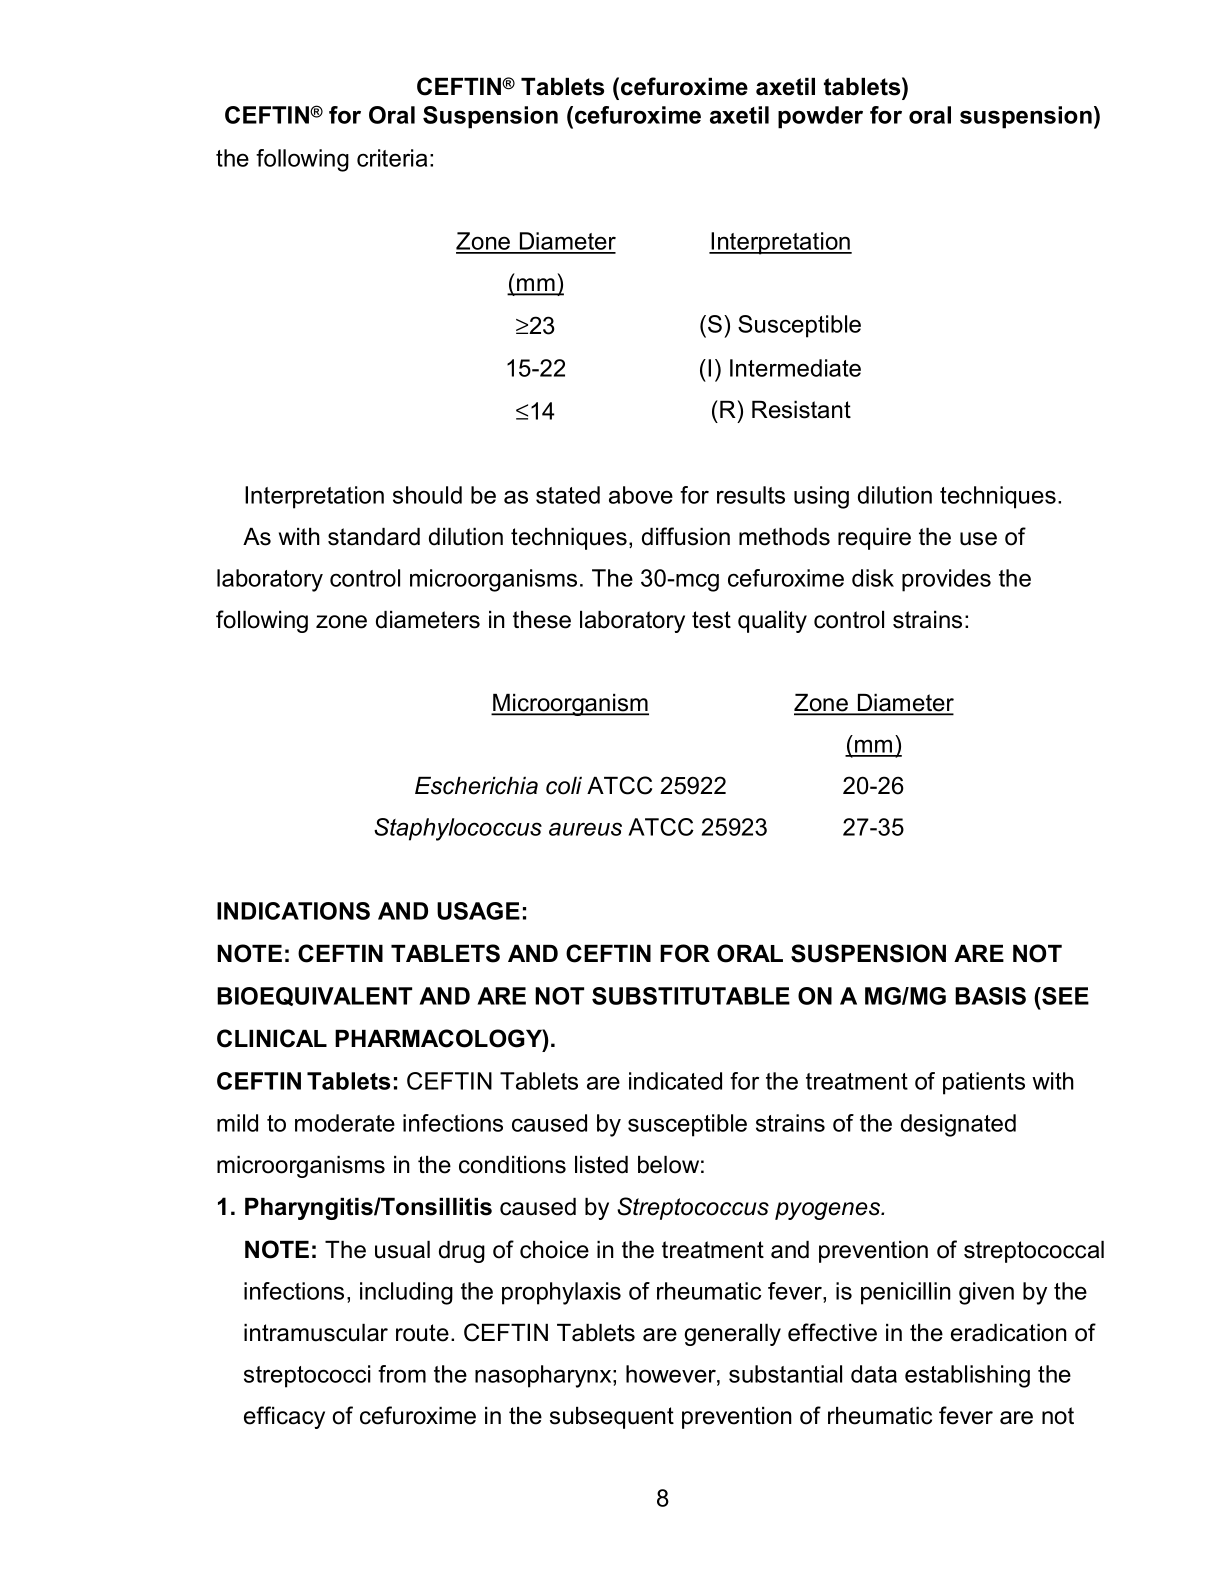nolines: (372, 693, 960, 842), (453, 224, 867, 423)
